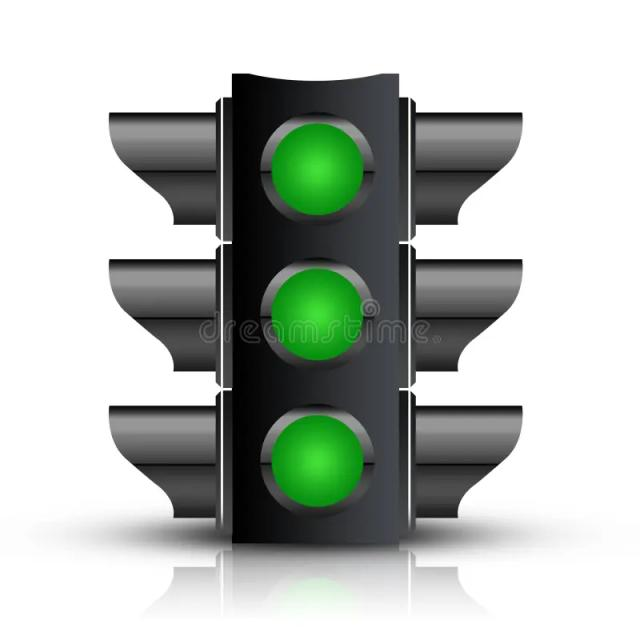green: (267, 122, 368, 505)
